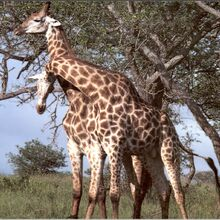Jirafa: (9, 4, 83, 60), (25, 61, 87, 123)
